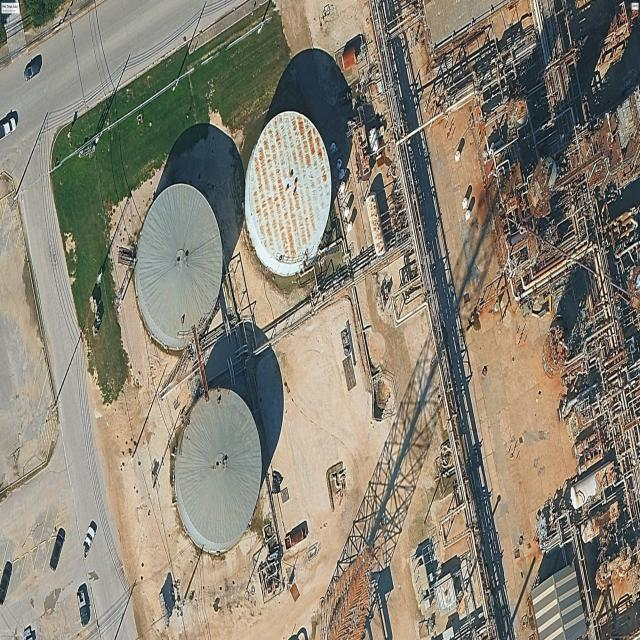Oil Rafinery: (135, 183, 222, 350), (174, 388, 262, 553), (245, 111, 332, 276)
